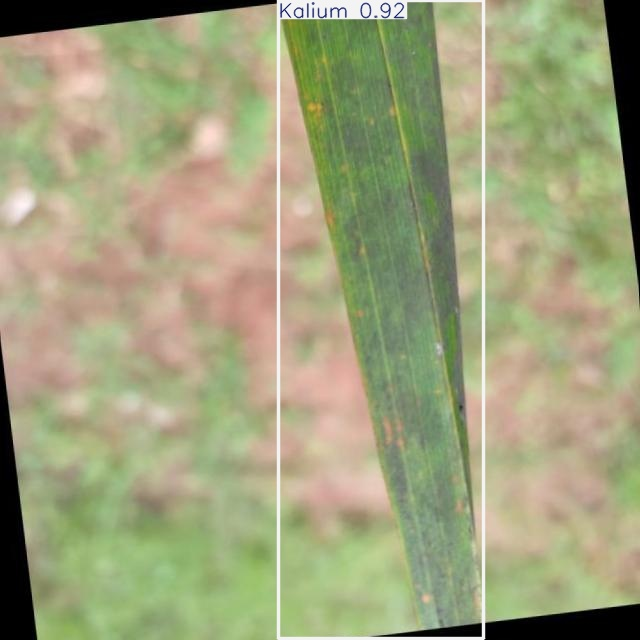Kalium: (278, 0, 483, 639)
